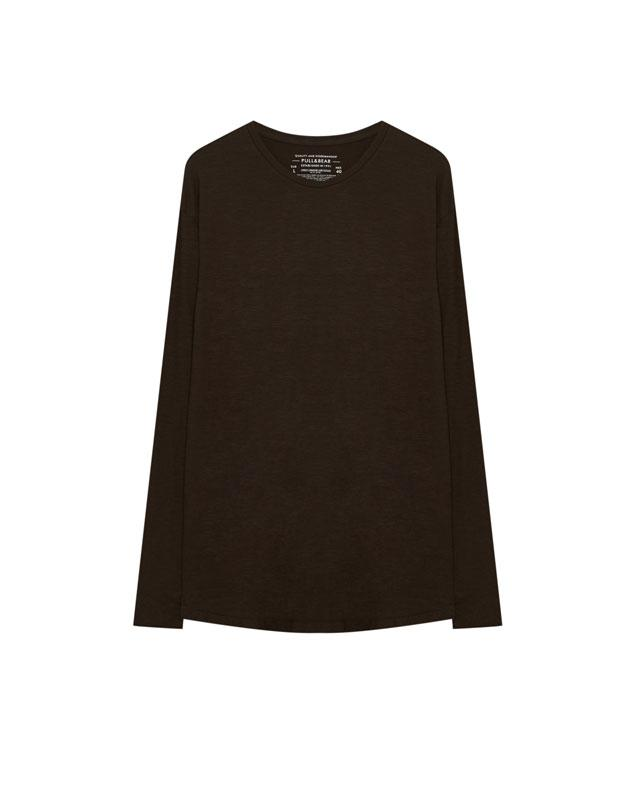teeshirt: (103, 111, 537, 689)
